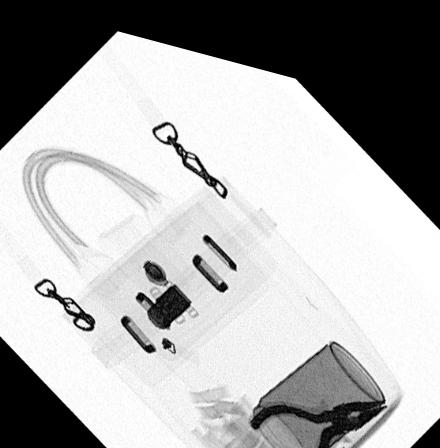Pliers: (245, 375, 392, 448)
